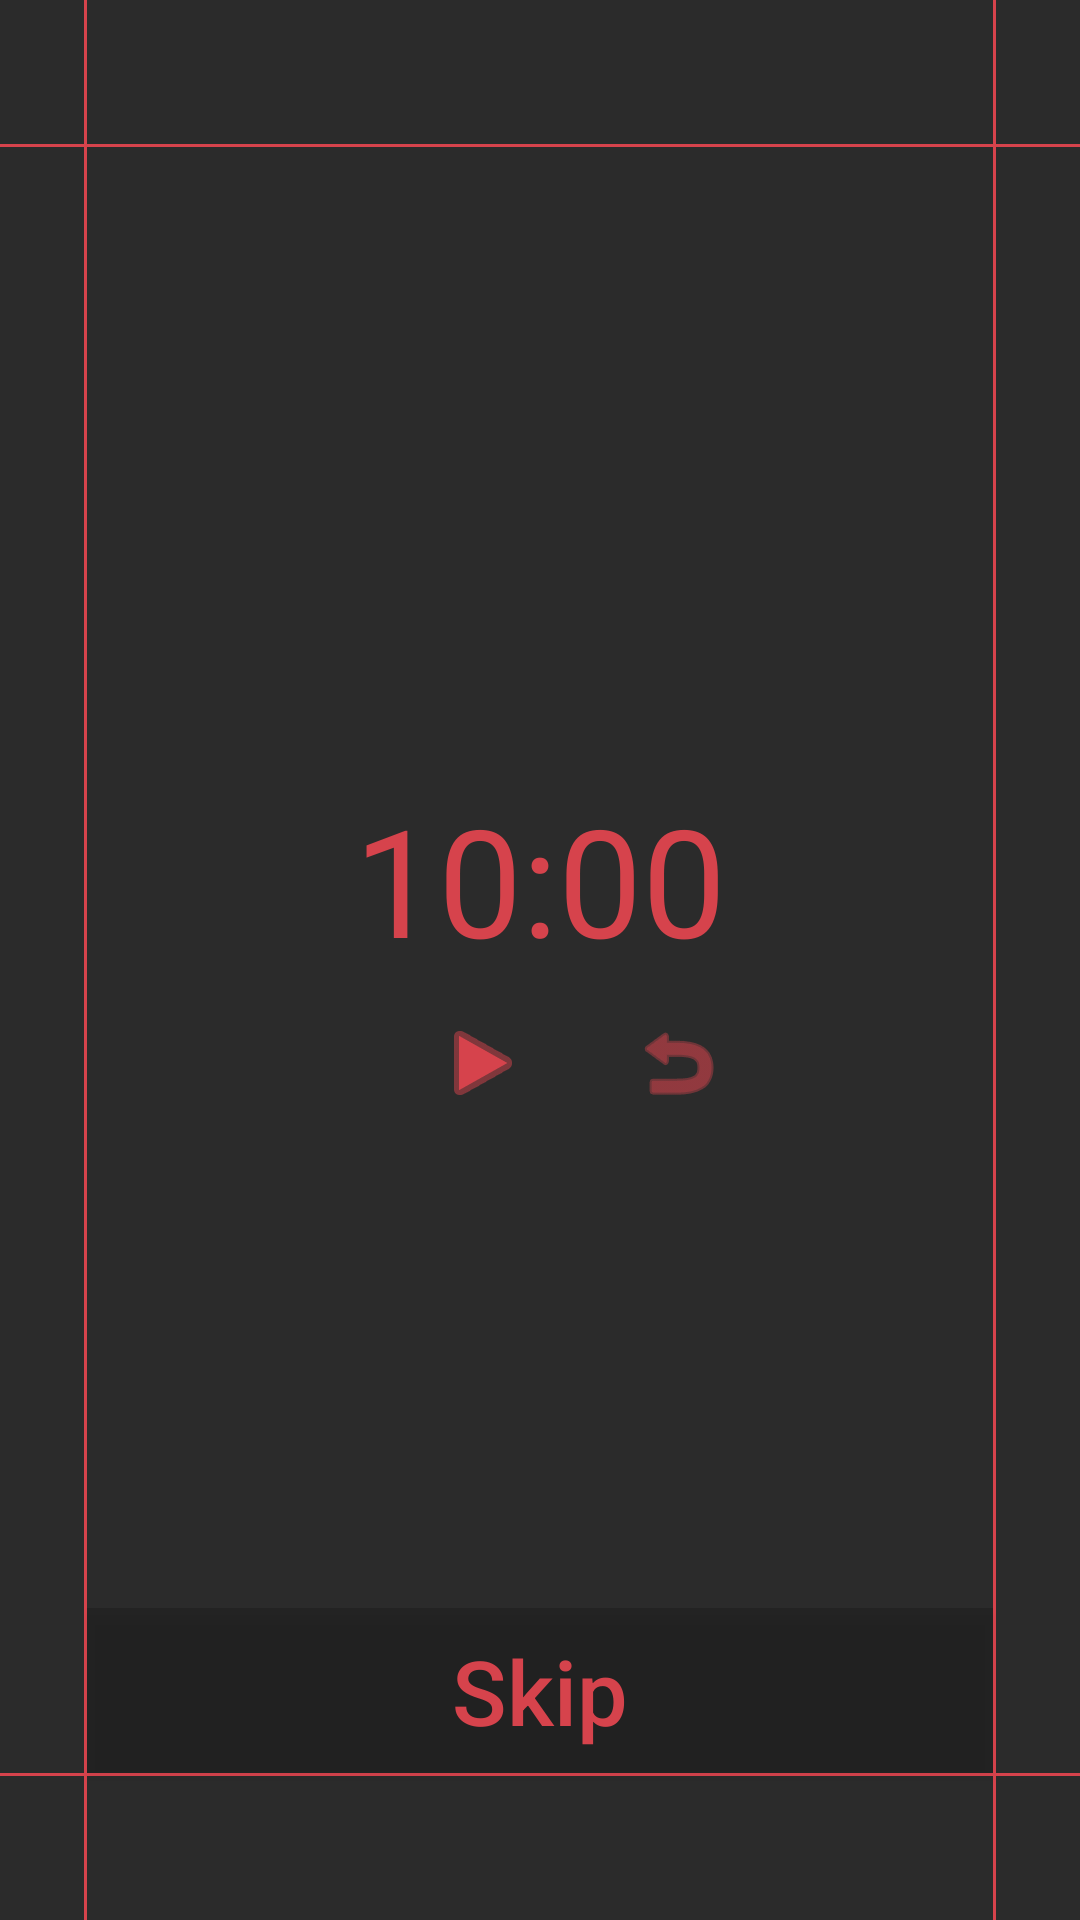

Point at icon controls on the screen. Image size 1080×1920, points as (x,y).
play: (483,1063)
revert: (679,1063)
